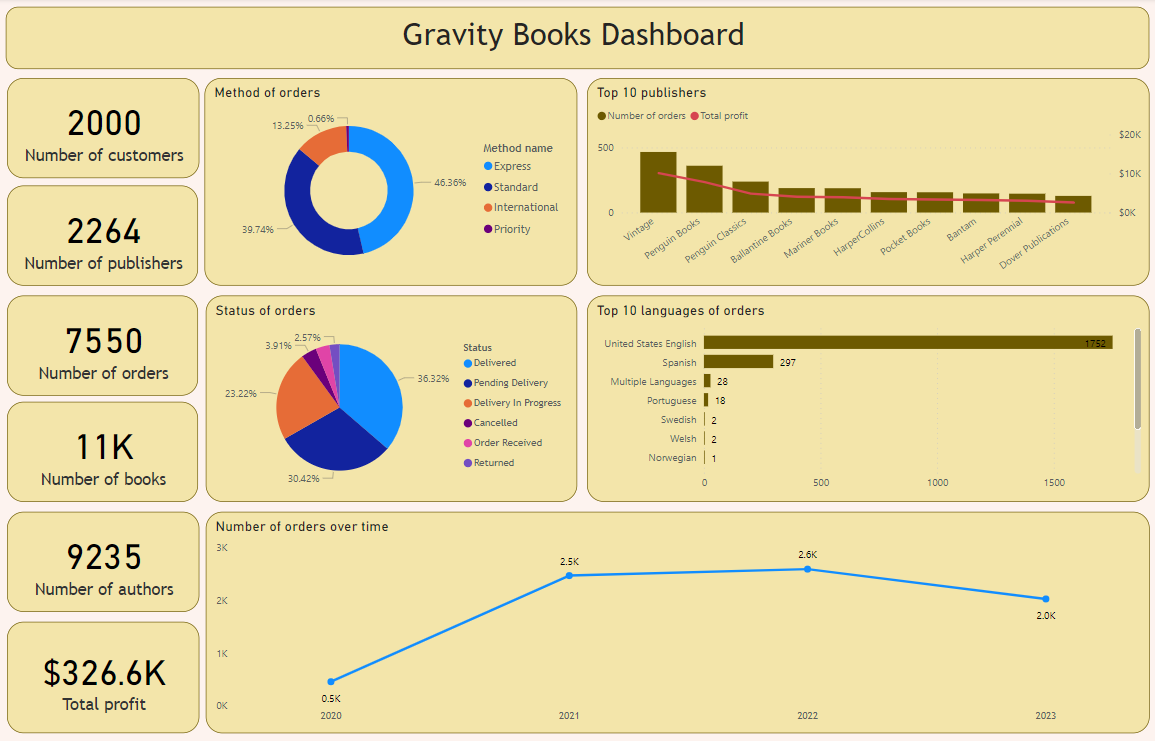

Layout of this report page (visuals, bound fields, positions):
{"tool":"powerbi","page":{"name":"Gravity_Books_Dashboard","canvas":[1400,900],"ordinal":0},"visuals":[{"type":"card","fields":{"Values":["# Measures.Number of customers"]},"box":[12.1,96.5,232.2,120.6],"z":0},{"type":"card","fields":{"Values":["# Measures.Total Orders"]},"box":[12.1,358.8,230.7,120.6],"z":1000},{"type":"card","title":"Total Profit","fields":{"Values":["# Measures.Total Cost"]},"box":[12.1,752.3,232.2,134.2],"z":2000},{"type":"textbox","box":[10.6,10.6,1379.4,75.4],"z":3000},{"type":"card","fields":{"Values":["# Measures.Number of books"]},"box":[12.1,486.9,230.7,120.6],"z":4000},{"type":"card","fields":{"Values":["# Measures.Number of publishers"]},"box":[12.1,226.1,230.7,120.6],"z":5000},{"type":"lineStackedColumnComboChart","title":"Top 10 publishers ","fields":{"Category":["DIM_publisher.publisher_name"],"Y":["# Measures.Total Orders"],"Y2":["# Measures.Total Cost"]},"box":[711.6,96.5,678.4,250.3],"z":6000},{"type":"donutChart","title":"Method of orders","fields":{"Y":["# Measures.Total Orders"],"Category":["DIM_shipping_method.method_name"]},"box":[250.3,96.5,449.2,250.3],"z":7000},{"type":"barChart","title":"Top 10 languages of orders","fields":{"Category":["DIM_language.language_name"],"Y":["# Measures.Total Orders"]},"box":[711.6,358.8,678.4,248.7],"z":8000},{"type":"pieChart","title":"Status of orders","fields":{"Y":["Count(FACT_order_status.order_bk)"],"Category":["DIM_status.status_value"]},"box":[251.8,358.8,447.7,248.7],"z":9000},{"type":"lineChart","title":"Number of orders over time","fields":{"Y":["# Measures.Total Orders"],"Category":["DimDate.Year","DimDate.MonthName"]},"box":[251.8,619.6,1138.2,266.8],"z":10000},{"type":"card","fields":{"Values":["# Measures.Number of authors"]},"box":[12.1,619.6,232.2,120.6],"z":11000}]}

Visuals, with their boxes in screenshot pixels (x1, y1, x2, y2), scaled from the page's 1400x900 canvas onto the 1155x741 screenshot:
card - # Measures.Number of customers: crop(10, 79, 202, 179)
card - # Measures.Total Orders: crop(10, 295, 200, 395)
"Total Profit" card: crop(10, 619, 202, 730)
textbox: crop(9, 9, 1147, 71)
card - # Measures.Number of books: crop(10, 401, 200, 500)
card - # Measures.Number of publishers: crop(10, 186, 200, 285)
"Top 10 publishers " lineStackedColumnComboChart: crop(587, 79, 1147, 286)
"Method of orders" donutChart: crop(206, 79, 577, 286)
"Top 10 languages of orders" barChart: crop(587, 295, 1147, 500)
"Status of orders" pieChart: crop(208, 295, 577, 500)
"Number of orders over time" lineChart: crop(208, 510, 1147, 730)
card - # Measures.Number of authors: crop(10, 510, 202, 609)
